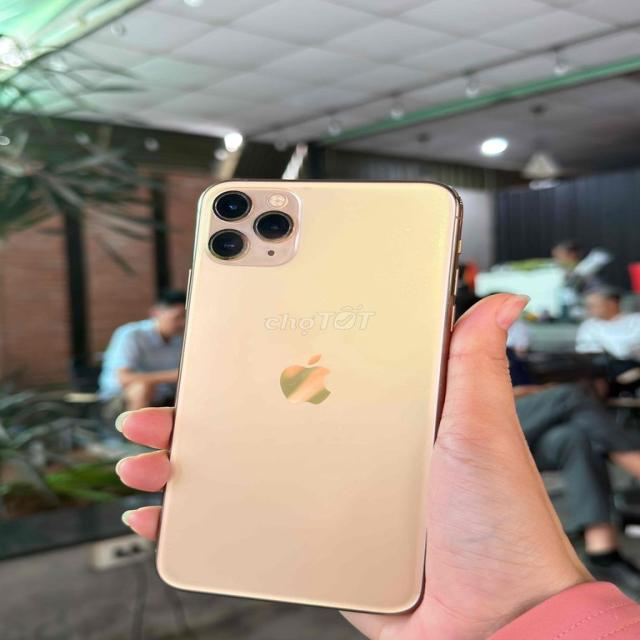gen_11: (153, 170, 463, 622)
